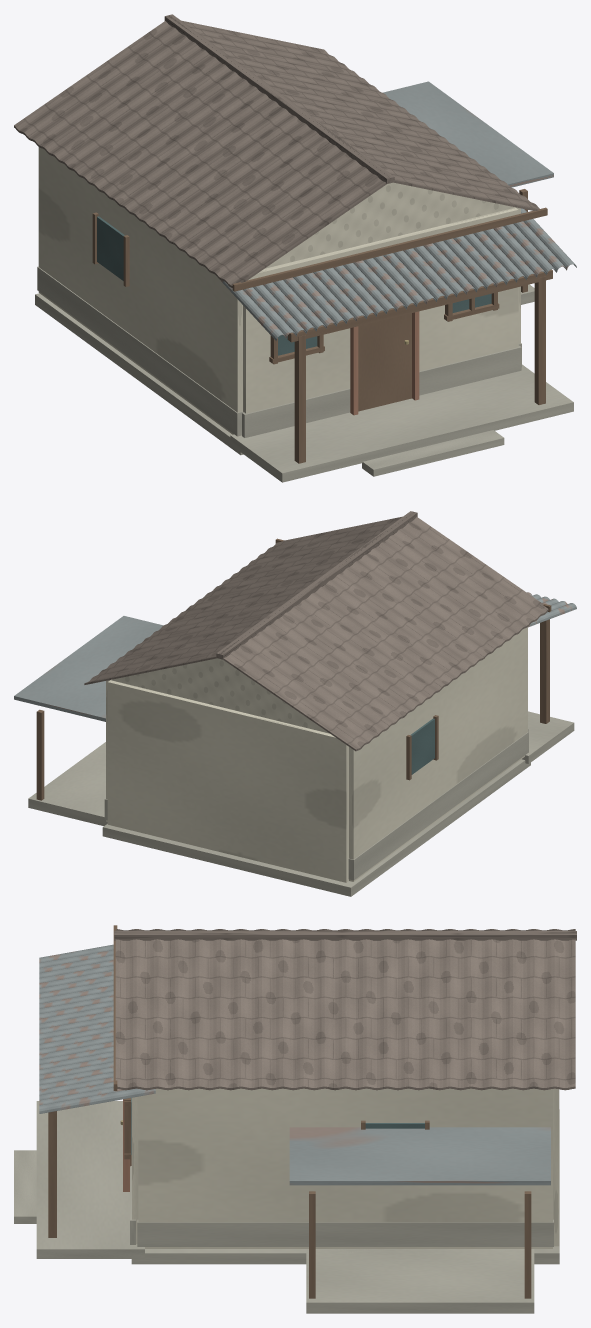
The model's file is Nha02_NgoiNau_HienTon.fbx.
The picture shows the model from 3 angles, top to bottom: view 1: azimuth 30°, elevation 25°; view 2: azimuth 150°, elevation 25°; view 3: azimuth 270°, elevation 25°; orthographic projection. The views are drawn at different scales.
Visible parts, largest first — view 1: Main_clay_tile_roof.001, Side_wall.002, Porch_roof.001, Porch_floor.001, Gable_wall.002, Upper_gable.002, Side_shed_roof, Bottom_band.002, Front_bottom_band.001, Door_recess.001, Plinth.001, Ridge_cap.001 (+8 smaller); view 2: Main_clay_tile_roof.001, Gable_wall.003, Side_wall.002, Side_shed_roof, Plinth.001, Upper_gable.003, Bottom_band.002, Side_shed_floor, Ridge_cap.001, Porch_floor.001, Porch_post.002, Side_window.002 (+2 smaller); view 3: Main_clay_tile_roof.001, Side_wall.003, Side_shed_roof, Side_shed_floor, Porch_floor.001, Porch_roof.001, Bottom_band.003, Ridge_cap.001, Plinth.001, Front_step.001, Porch_post.003, Gable_wall.003 (+4 smaller).
Boxes of the visible parts, box(x1,y1,x2,y2) form: Main_clay_tile_roof.001: box(14, 20, 539, 287); Side_wall.002: box(38, 147, 242, 436); Porch_roof.001: box(220, 208, 576, 340); Porch_floor.001: box(230, 364, 573, 482); Gable_wall.002: box(243, 207, 518, 413); Upper_gable.002: box(265, 182, 514, 268); Side_shed_roof: box(383, 81, 553, 187); Bottom_band.002: box(37, 266, 243, 436); Front_bottom_band.001: box(242, 345, 521, 437); Door_recess.001: box(358, 313, 411, 411); Plinth.001: box(35, 293, 243, 455); Ridge_cap.001: box(164, 14, 394, 183); Main_clay_tile_roof.001: box(84, 516, 548, 751); Gable_wall.003: box(107, 680, 348, 882); Side_wall.002: box(349, 627, 527, 881); Side_shed_roof: box(14, 616, 163, 721); Plinth.001: box(102, 759, 530, 896); Upper_gable.003: box(111, 658, 329, 733); Bottom_band.002: box(348, 732, 528, 880); Side_shed_floor: box(28, 742, 107, 825); Ridge_cap.001: box(216, 511, 417, 659); Porch_floor.001: box(522, 711, 574, 763); Porch_post.002: box(540, 619, 549, 723); Side_window.002: box(410, 718, 434, 774); Main_clay_tile_roof.001: box(115, 929, 575, 1090); Side_wall.003: box(138, 1088, 552, 1248); Side_shed_roof: box(289, 1127, 550, 1185); Side_shed_floor: box(306, 1249, 534, 1313); Porch_floor.001: box(36, 1101, 144, 1258); Porch_roof.001: box(39, 944, 155, 1113); Bottom_band.003: box(137, 1219, 553, 1246); Ridge_cap.001: box(114, 931, 576, 940); Plinth.001: box(131, 1109, 559, 1264); Front_step.001: box(14, 1150, 36, 1223); Porch_post.003: box(48, 1111, 56, 1237); Gable_wall.003: box(553, 1088, 559, 1246).
Size of the model in its own units: 726 by 428 by 842.
